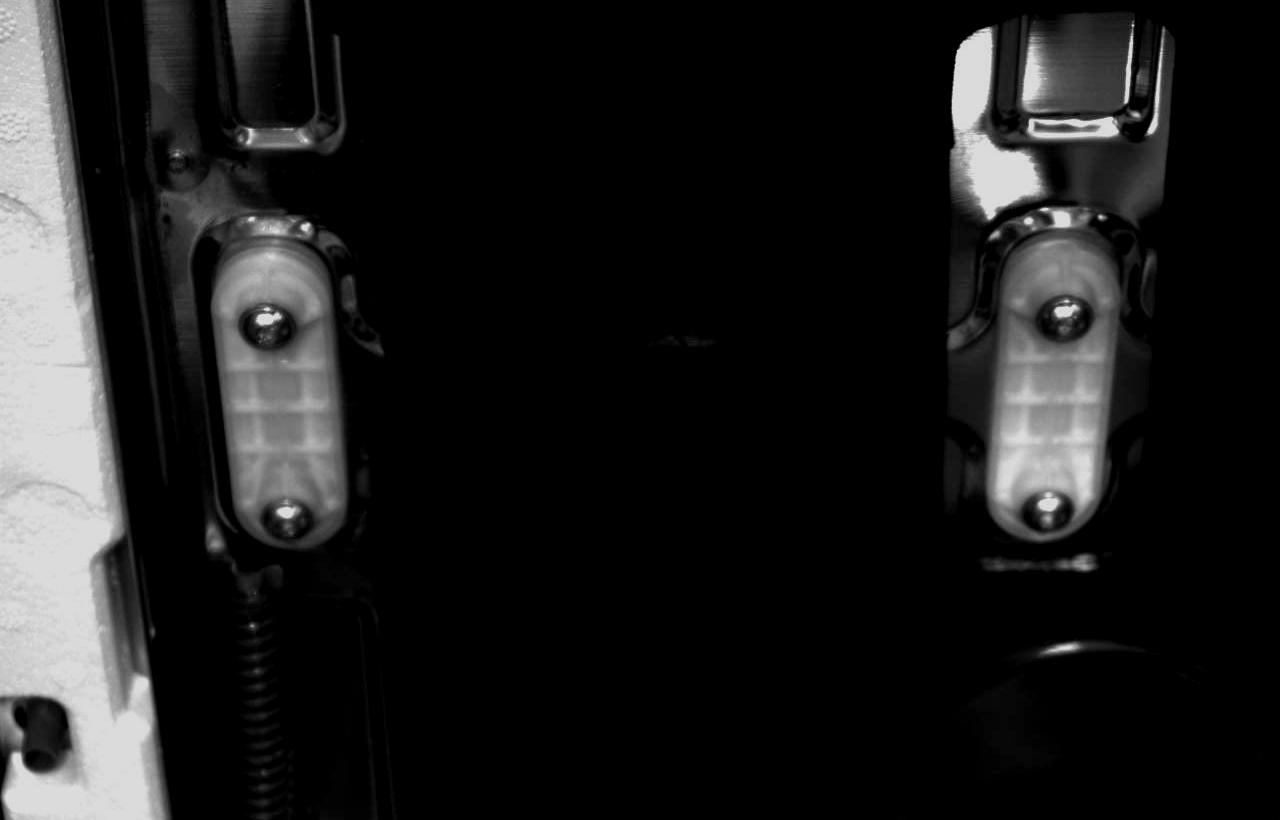vida-ok: (237, 285, 309, 352), (1031, 277, 1099, 344), (1013, 462, 1079, 531), (259, 484, 324, 542)
